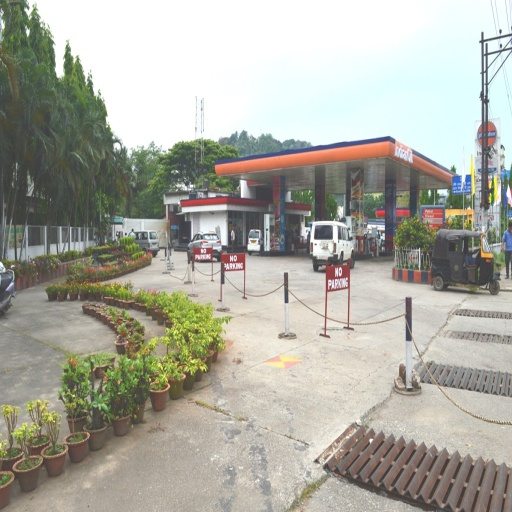roof: (212, 137, 456, 194)
